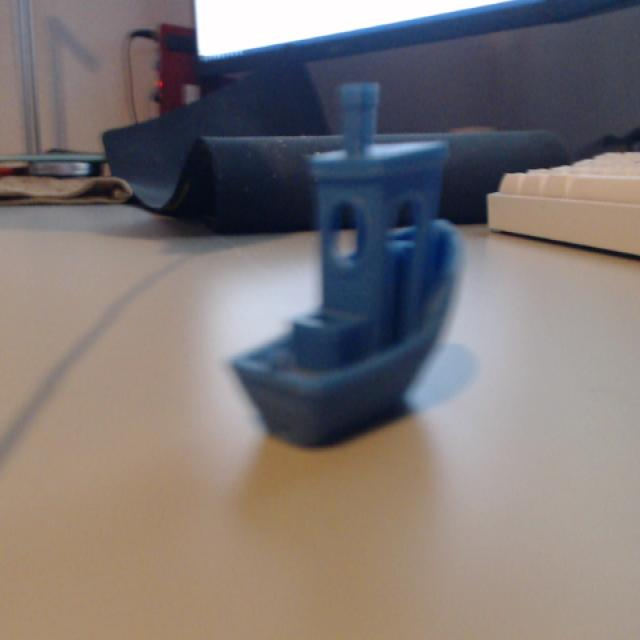benchy: (227, 77, 466, 447)
